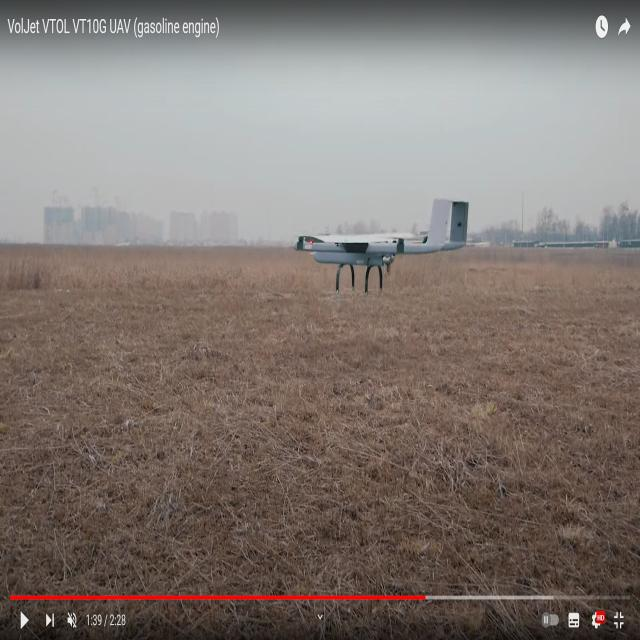iha: (294, 231, 470, 244)
